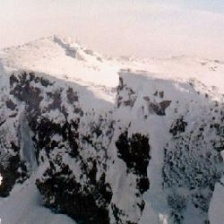neutral: (2, 14, 222, 224)
